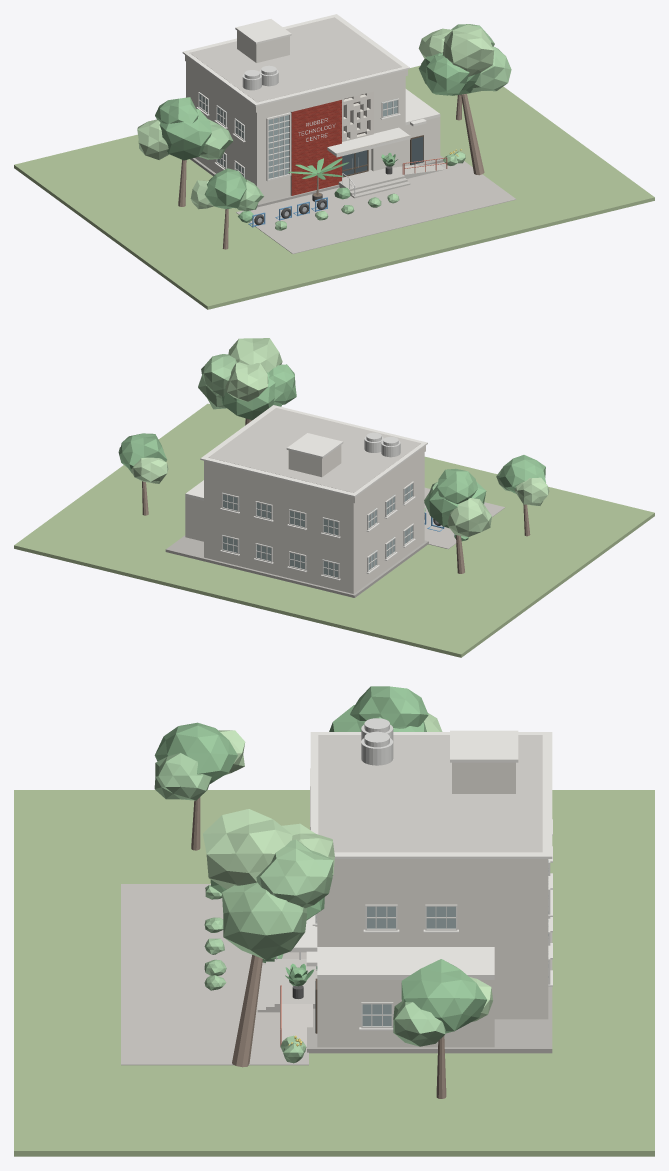
Rendered from Rubber_Technology_Centre_IIT_KGP.glb.
3 views of the same model, one above another, from view 1: azimuth 30°, elevation 25°; view 2: azimuth 150°, elevation 25°; view 3: azimuth 270°, elevation 25° (orthographic). The views are drawn at different scales.
Visible parts, largest first — view 1: Landscape - Lawn, Landscape - Paving, Roof - Concrete, Landscape - Leaf dark, Facade - Cream plaster, Building shell - Cream plaster, Landscape - Leaf light, Facade - Red brick, Roof - Off-white trim, Landscape - Leaf mid, Roof - Cream plaster, Entrance - Concrete (+11 smaller); view 2: Landscape - Lawn, Building shell - Cream plaster, Roof - Concrete, Landscape - Leaf dark, Landscape - Leaf light, Roof - Off-white trim, Roof - Cream plaster, Windows - Window glass, Windows - Window frame, Building shell - Plinth, Landscape - Leaf mid, Landscape - Paving (+3 smaller); view 3: Landscape - Lawn, Building shell - Cream plaster, Landscape - Paving, Roof - Concrete, Landscape - Leaf mid, Roof - Off-white trim, Landscape - Leaf dark, Landscape - Leaf light, Roof - Cream plaster, Building shell - Plinth, Entrance - Concrete, Landscape - Trunk (+5 smaller).
Boxes of the visible parts, x1,y1,x2,y2 form: Landscape - Lawn: (14, 65, 654, 309); Landscape - Paving: (236, 161, 516, 253); Roof - Concrete: (189, 17, 401, 102); Landscape - Leaf dark: (155, 53, 480, 222); Facade - Cream plaster: (254, 76, 405, 202); Building shell - Cream plaster: (186, 62, 440, 182); Landscape - Leaf light: (137, 24, 494, 209); Facade - Red brick: (291, 100, 341, 195); Roof - Off-white trim: (182, 14, 440, 124); Landscape - Leaf mid: (199, 24, 511, 230); Roof - Cream plaster: (185, 30, 407, 112); Entrance - Concrete: (338, 163, 445, 198); Landscape - Lawn: (14, 403, 654, 657); Building shell - Cream plaster: (185, 455, 421, 593); Roof - Concrete: (208, 408, 420, 492); Landscape - Leaf dark: (119, 364, 545, 541); Landscape - Leaf light: (131, 338, 549, 536); Roof - Off-white trim: (185, 405, 427, 500); Roof - Cream plaster: (204, 445, 425, 503); Windows - Window glass: (222, 484, 412, 577); Windows - Window frame: (221, 481, 413, 578); Building shell - Plinth: (165, 535, 428, 597); Landscape - Leaf mid: (118, 354, 510, 512); Landscape - Paving: (424, 487, 504, 549); Landscape - Lawn: (14, 790, 654, 1156); Building shell - Cream plaster: (317, 868, 548, 1047); Landscape - Paving: (121, 884, 308, 1065); Roof - Concrete: (318, 735, 542, 852); Landscape - Leaf mid: (154, 752, 445, 1063); Roof - Off-white trim: (310, 730, 552, 979); Landscape - Leaf dark: (154, 686, 486, 1033); Landscape - Leaf light: (203, 713, 493, 1021); Roof - Cream plaster: (334, 762, 548, 868); Building shell - Plinth: (307, 932, 552, 1053); Entrance - Concrete: (257, 959, 317, 1046); Landscape - Trunk: (191, 797, 446, 1098).
Size of the model in its own units: 40 by 12.51 by 30.
Materials: 30 (2 with a texture image).
